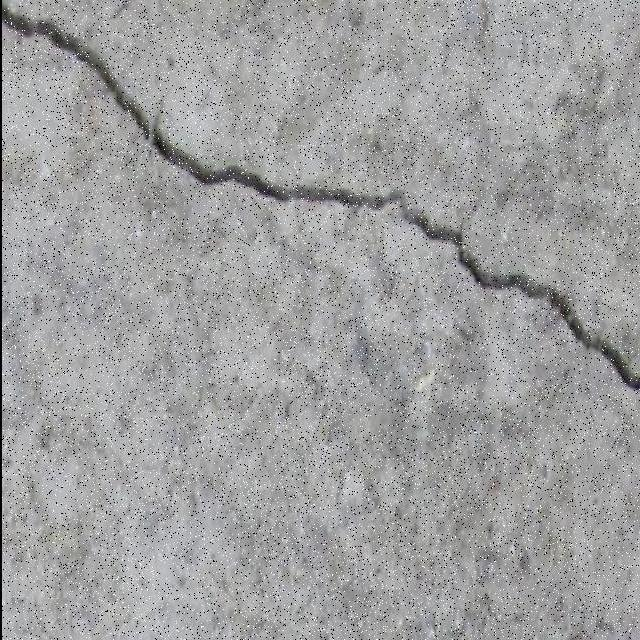Crack: (4, 6, 638, 391)
